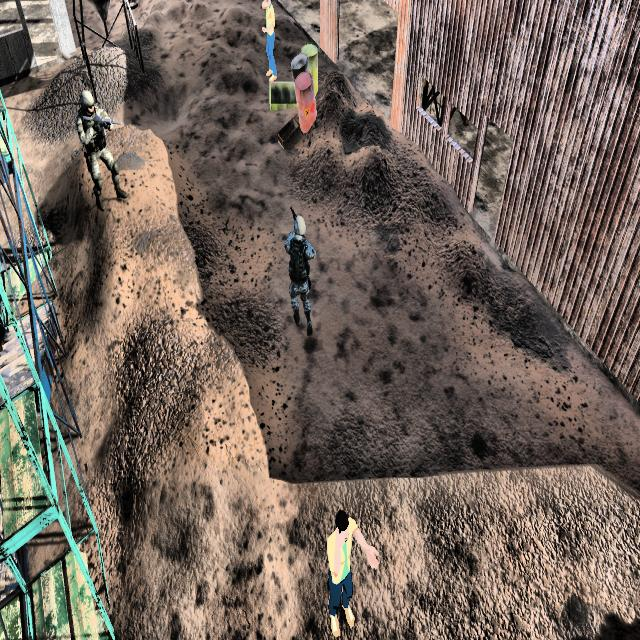bad: (272, 200, 330, 350), (75, 79, 129, 215)
good: (319, 495, 386, 640), (249, 0, 286, 87)
